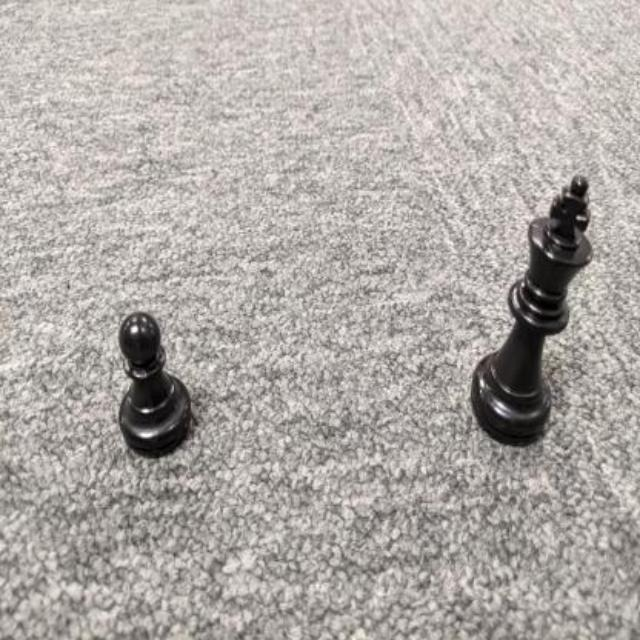black-king: (470, 175, 594, 445)
black-pawn: (118, 310, 193, 458)
